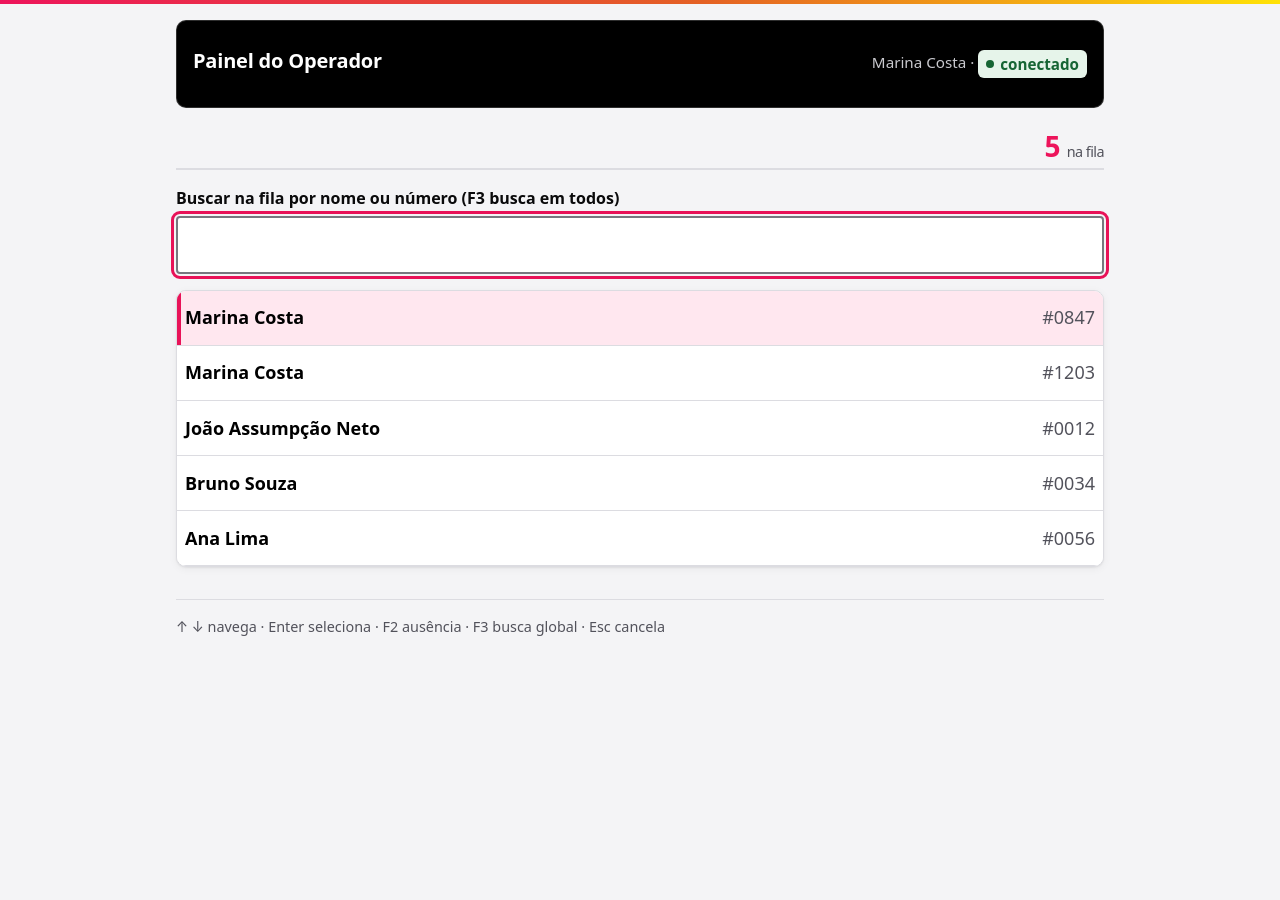
it: RF-18 — a confirmação com o nome em destaque › o botão Continuar leva à mesma confirmação, sem gravar
This screenshot has width=1280, height=900.
Expected: the button "Bruno Souza #0034" is shown, x1=177 y1=456 x2=1103 y2=511
Press Enter
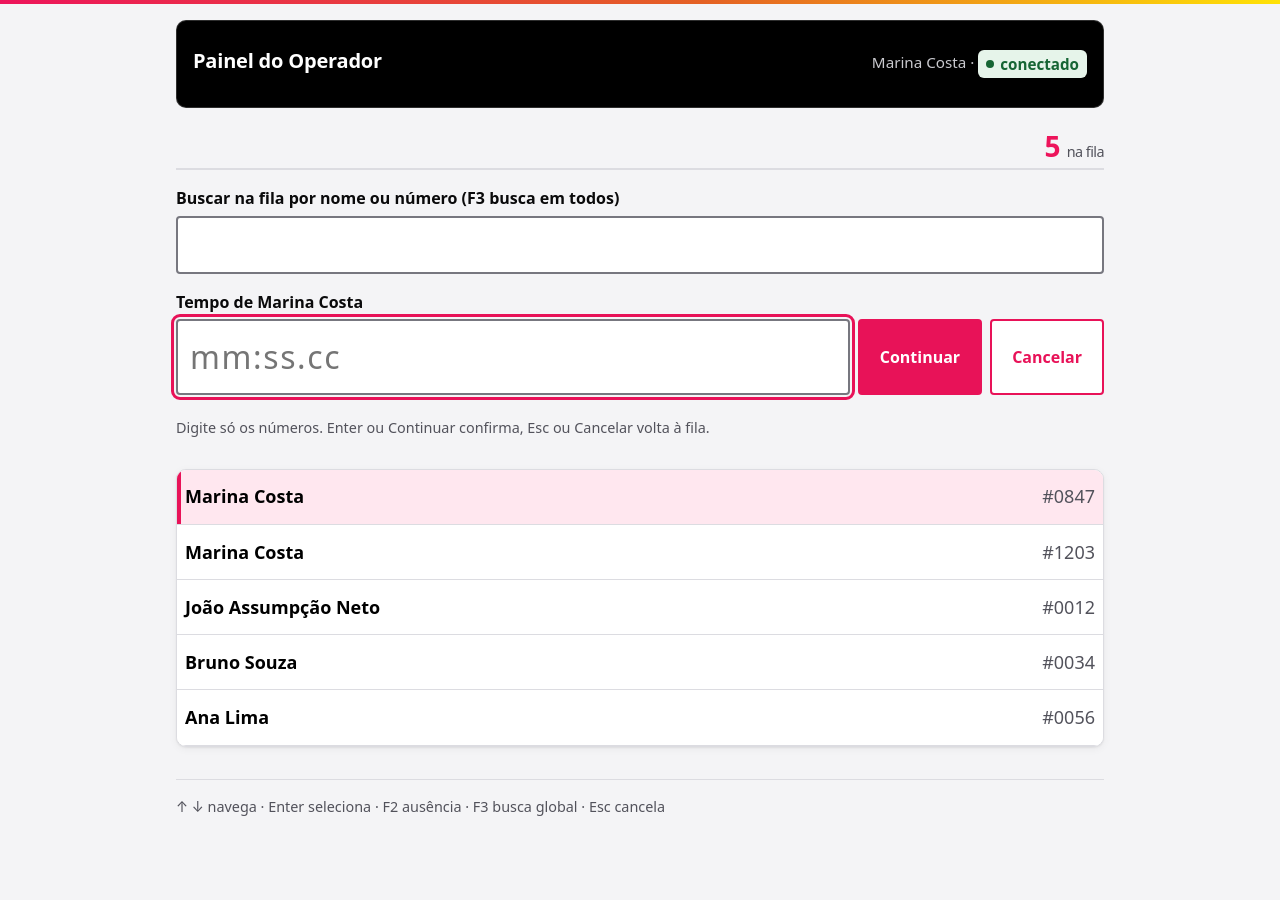
Now the field labelled "Tempo de Marina Costa" is shown, box x1=176 y1=319 x2=850 y2=395
Type keys "12345"
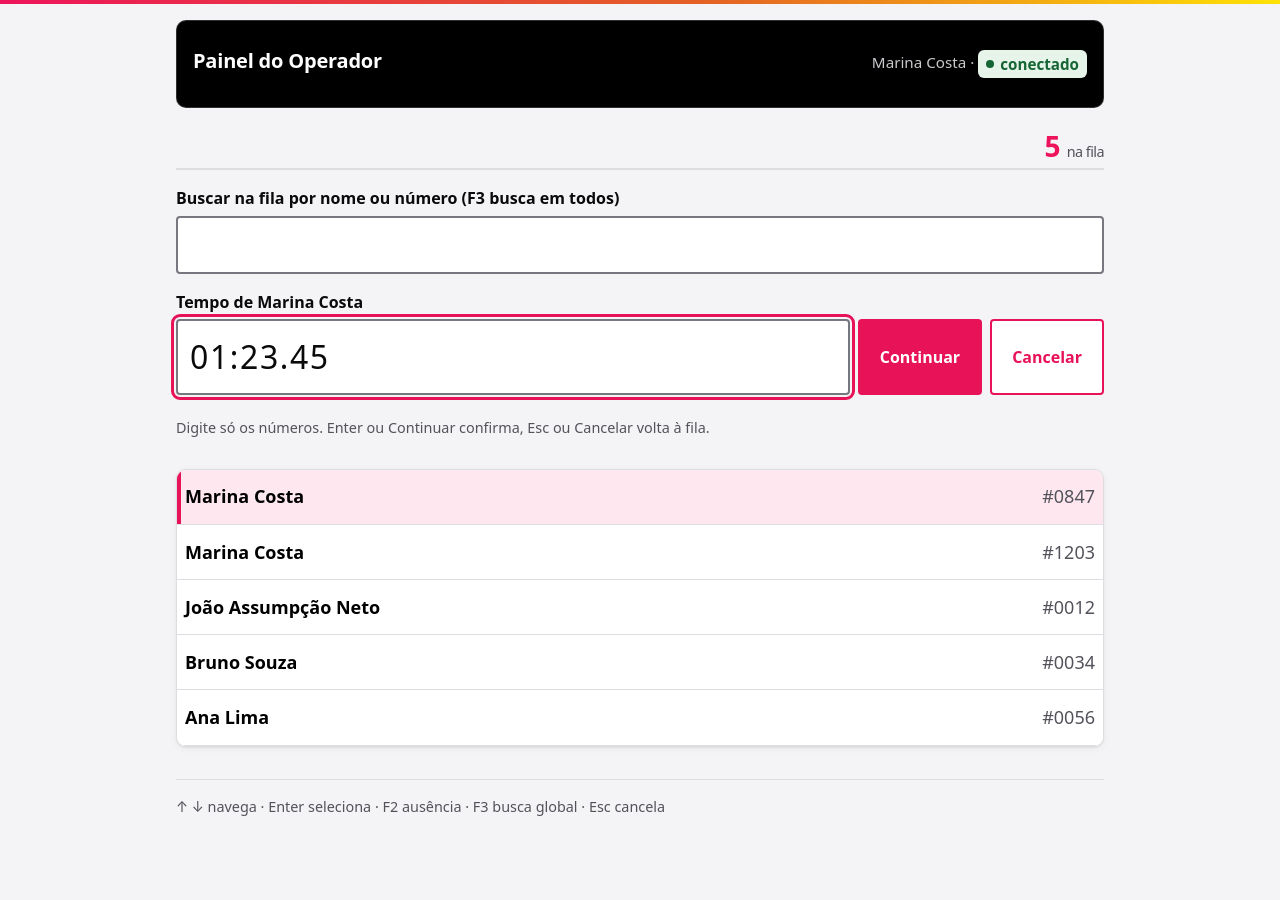
Click the button "Continuar".
click(920, 357)  # box x1=858 y1=319 x2=982 y2=395
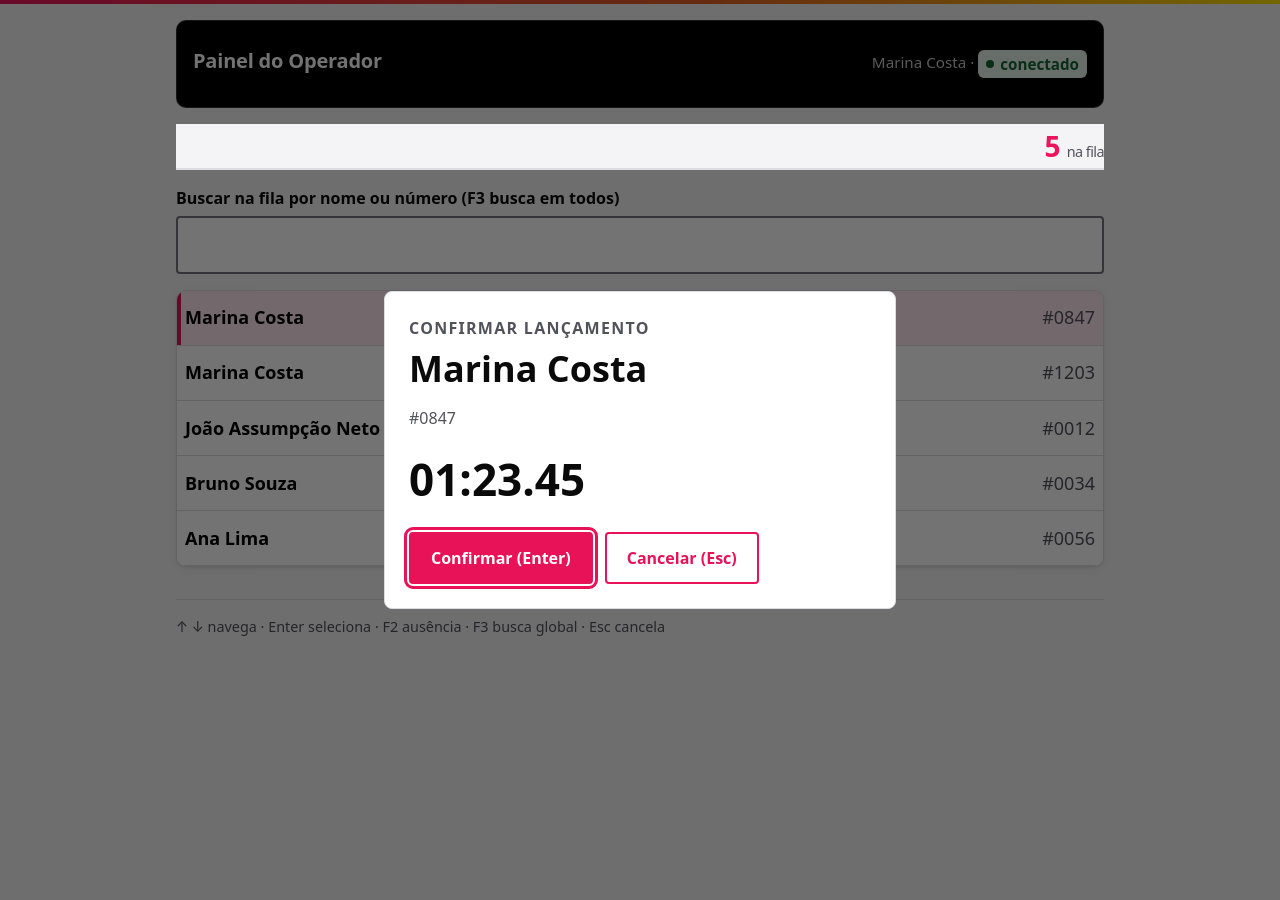
Now the text "01:23.45" is shown, box x1=409 y1=449 x2=585 y2=509
